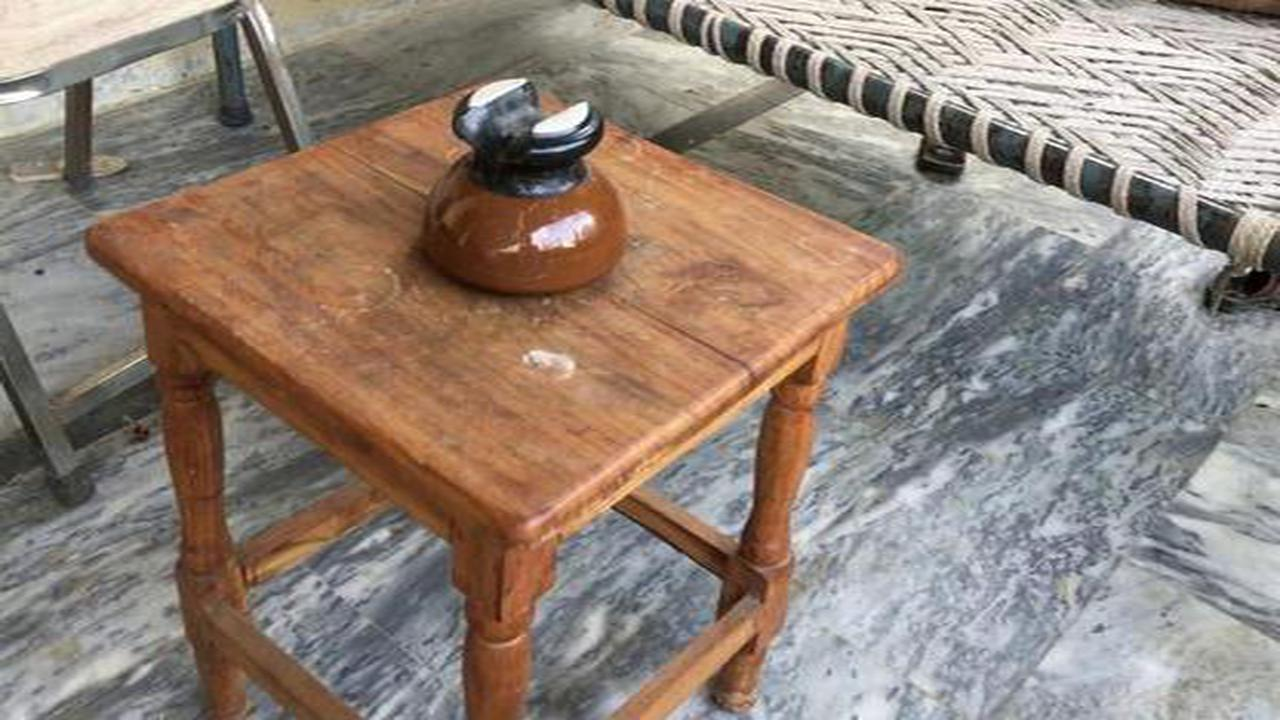insulator_pin: (410, 66, 637, 307)
